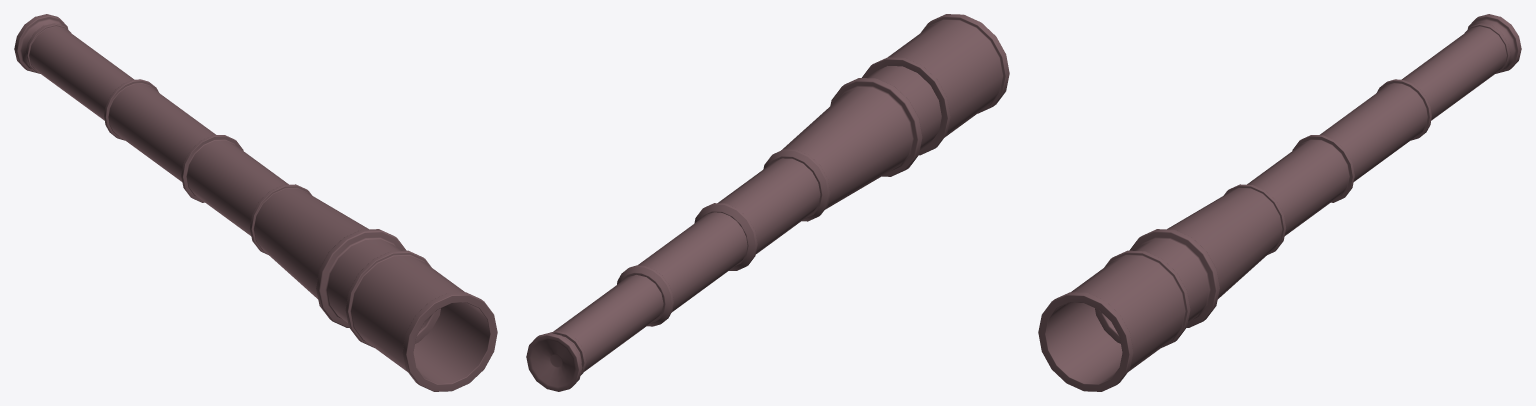
The model's file is Spyglass_low.fbx.
The picture shows the model from 3 angles, left to right: view 1: azimuth 30°, elevation 25°; view 2: azimuth 150°, elevation 25°; view 3: azimuth 330°, elevation 25°; orthographic projection.
Visible parts, largest first — view 1: Part1_low, Part2_low, Part5_low, Part4_low, Part3_low; view 2: Part2_low, Part1_low, Part5_low, Part4_low, Part3_low; view 3: Part1_low, Part2_low, Part5_low, Part4_low, Part3_low.
Boxes of the visible parts, left/top/right/bottom form: Part1_low: left=345, top=250, right=497, bottom=391; Part2_low: left=249, top=184, right=440, bottom=343; Part5_low: left=14, top=14, right=134, bottom=120; Part4_low: left=104, top=79, right=216, bottom=181; Part3_low: left=181, top=135, right=288, bottom=235; Part2_low: left=763, top=66, right=941, bottom=221; Part1_low: left=862, top=14, right=1009, bottom=155; Part5_low: left=526, top=275, right=663, bottom=391; Part4_low: left=617, top=212, right=747, bottom=326; Part3_low: left=694, top=158, right=820, bottom=270; Part1_low: left=1038, top=250, right=1190, bottom=391; Part2_low: left=1095, top=184, right=1286, bottom=343; Part5_low: left=1401, top=14, right=1521, bottom=120; Part4_low: left=1319, top=79, right=1431, bottom=181; Part3_low: left=1247, top=135, right=1354, bottom=235.
Size of the model in its own units: 2.72 by 2.72 by 21.15.
